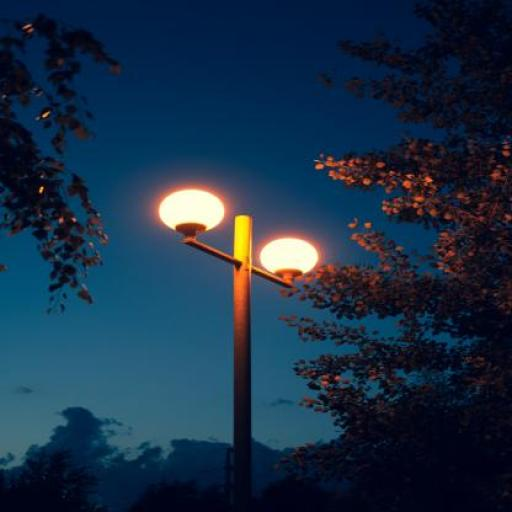street light: (156, 188, 320, 511)
